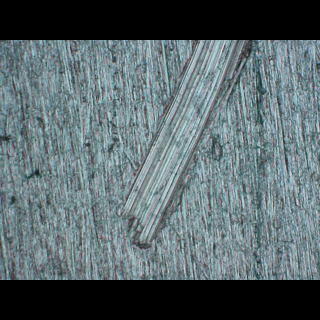Loch: (119, 70, 257, 227)
